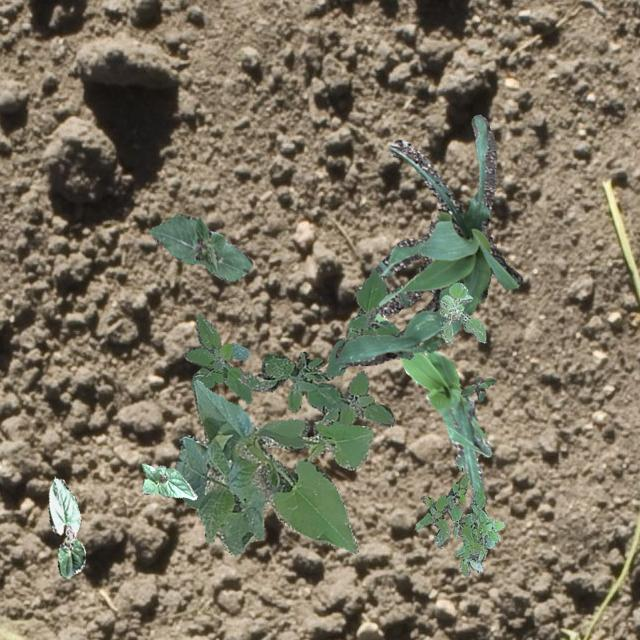crop: (334, 113, 520, 364), (175, 378, 372, 554), (374, 310, 491, 500), (148, 212, 252, 280), (48, 477, 84, 578), (140, 462, 196, 498)
weed: (236, 266, 412, 426), (414, 474, 504, 574), (182, 314, 250, 402), (438, 282, 484, 342), (460, 376, 494, 400)
